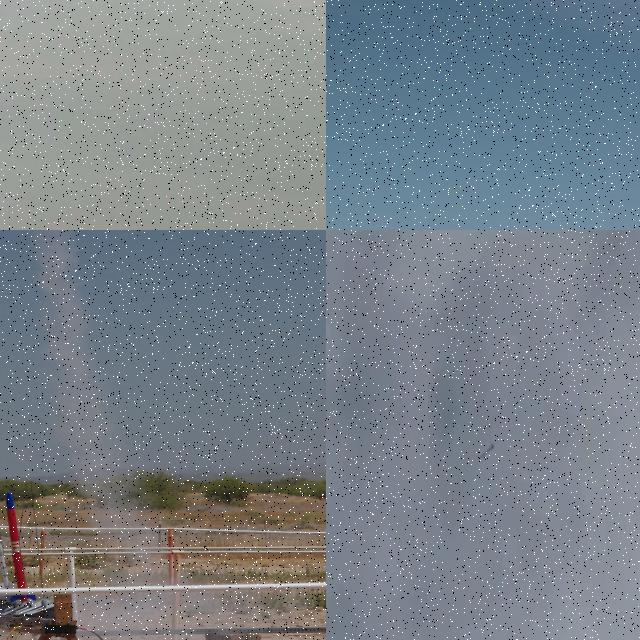Rocket: (5, 491, 37, 602), (0, 533, 17, 589), (480, 443, 494, 459)
